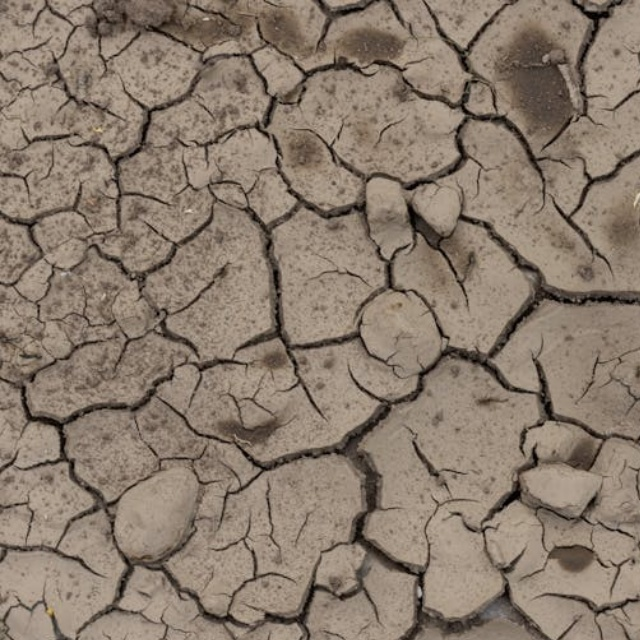细微裂纹: (399, 0, 640, 551), (404, 7, 515, 227)
网状裂隙: (0, 132, 640, 640)
